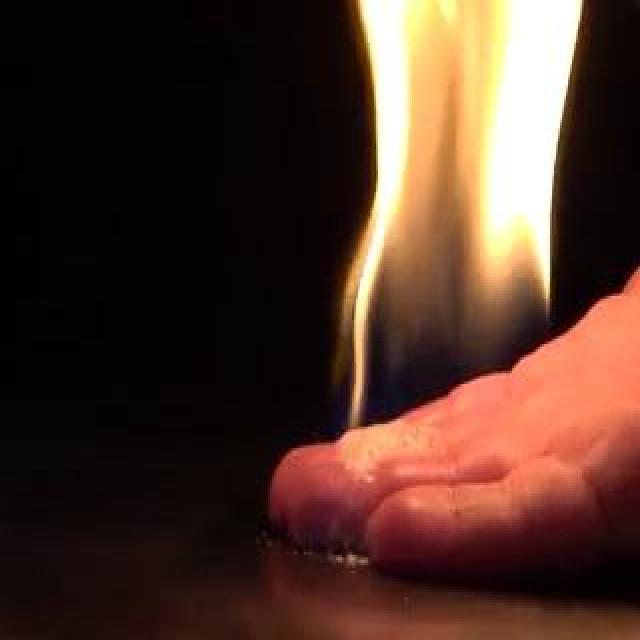Fire: (352, 3, 562, 429)
